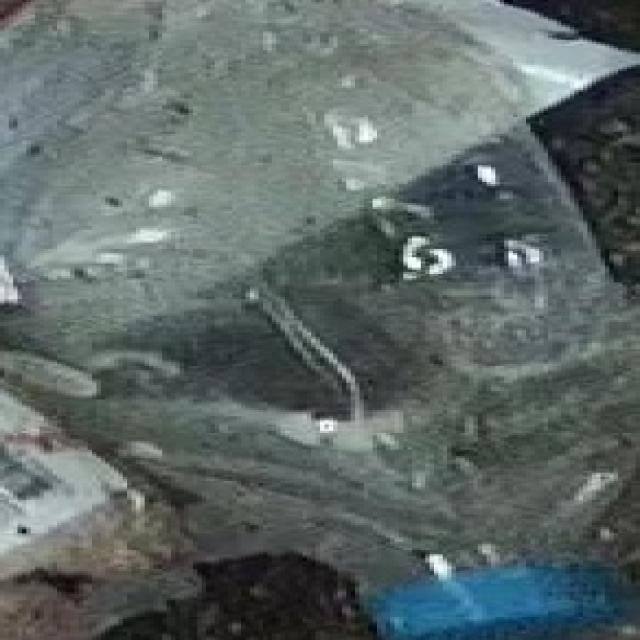plasticbottle: (0, 6, 640, 640)
